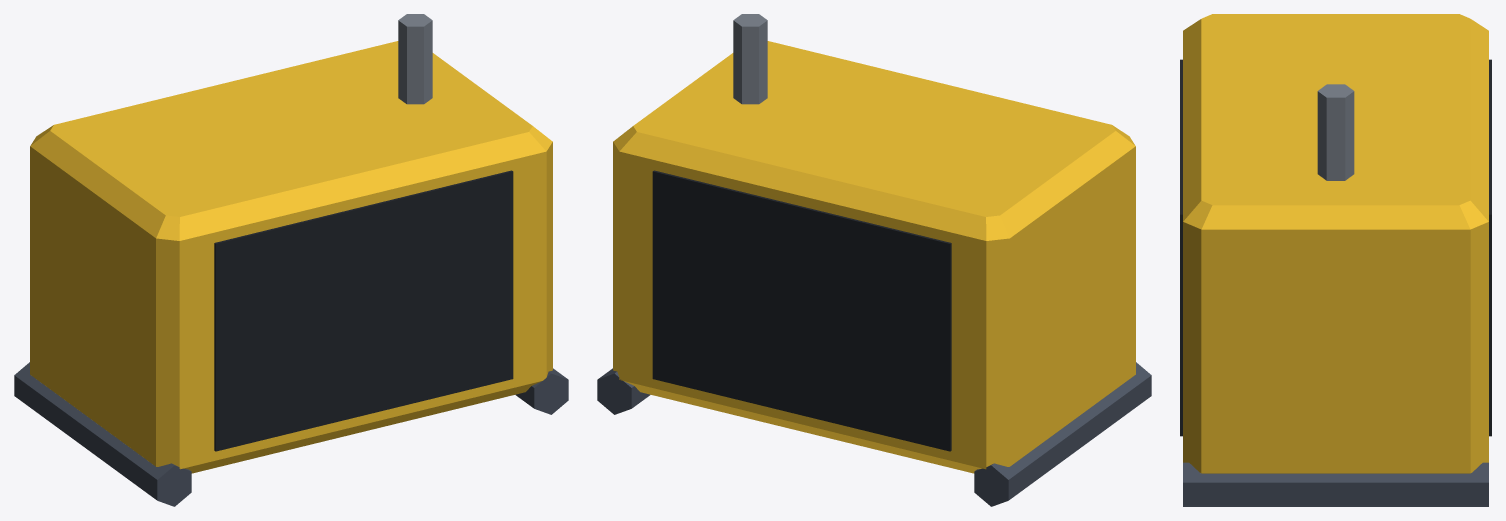
File: generator.glb
3 views of the same model, side by side, from view 1: azimuth 30°, elevation 25°; view 2: azimuth 150°, elevation 25°; view 3: azimuth 270°, elevation 25° (orthographic). The views are drawn at different scales.
Parts seen in each view (by area): view 1: generator; view 2: generator; view 3: generator.
Boxes of the visible parts, x1,y1,x2,y2 form: generator: (14, 14, 568, 506); generator: (597, 14, 1151, 506); generator: (1180, 14, 1491, 506).
Bounding box in the file's own units: 0.8293 × 0.69 × 0.51.
